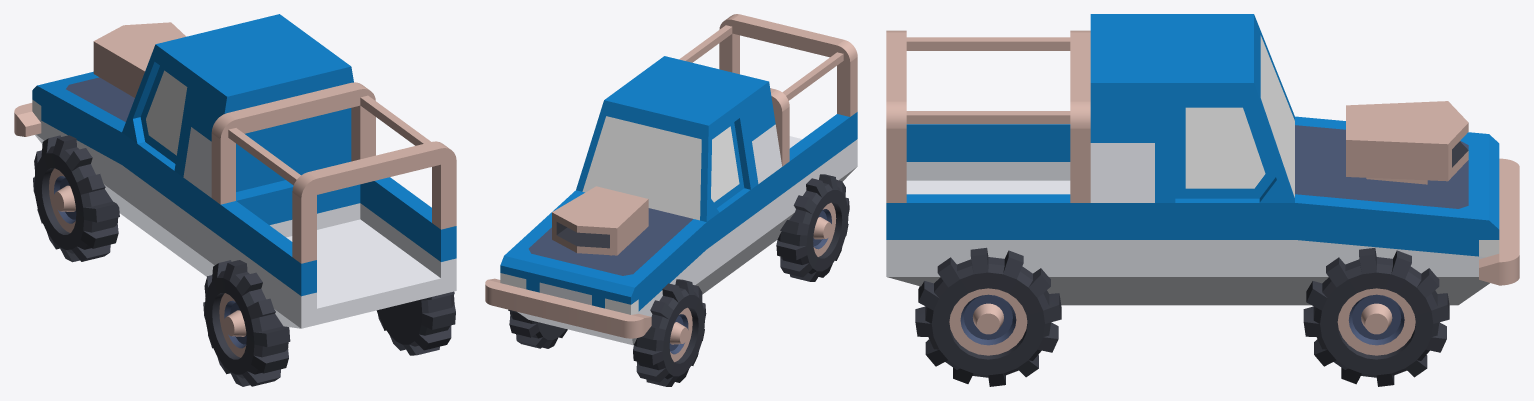
The model's file is car2.fbx.
The picture shows the model from 3 angles, left to right: view 1: azimuth 30°, elevation 25°; view 2: azimuth 150°, elevation 25°; view 3: azimuth 270°, elevation 25°; orthographic projection. The views are drawn at different scales.
Visible parts, largest first — view 1: mergedBlocks; view 2: mergedBlocks; view 3: mergedBlocks.
Boxes of the visible parts, left/top/right/bottom form: mergedBlocks: left=14, top=14, right=456, bottom=386; mergedBlocks: left=485, top=14, right=857, bottom=386; mergedBlocks: left=886, top=14, right=1519, bottom=386.
Size of the model in its own units: 12.33 by 15.58 by 31.
